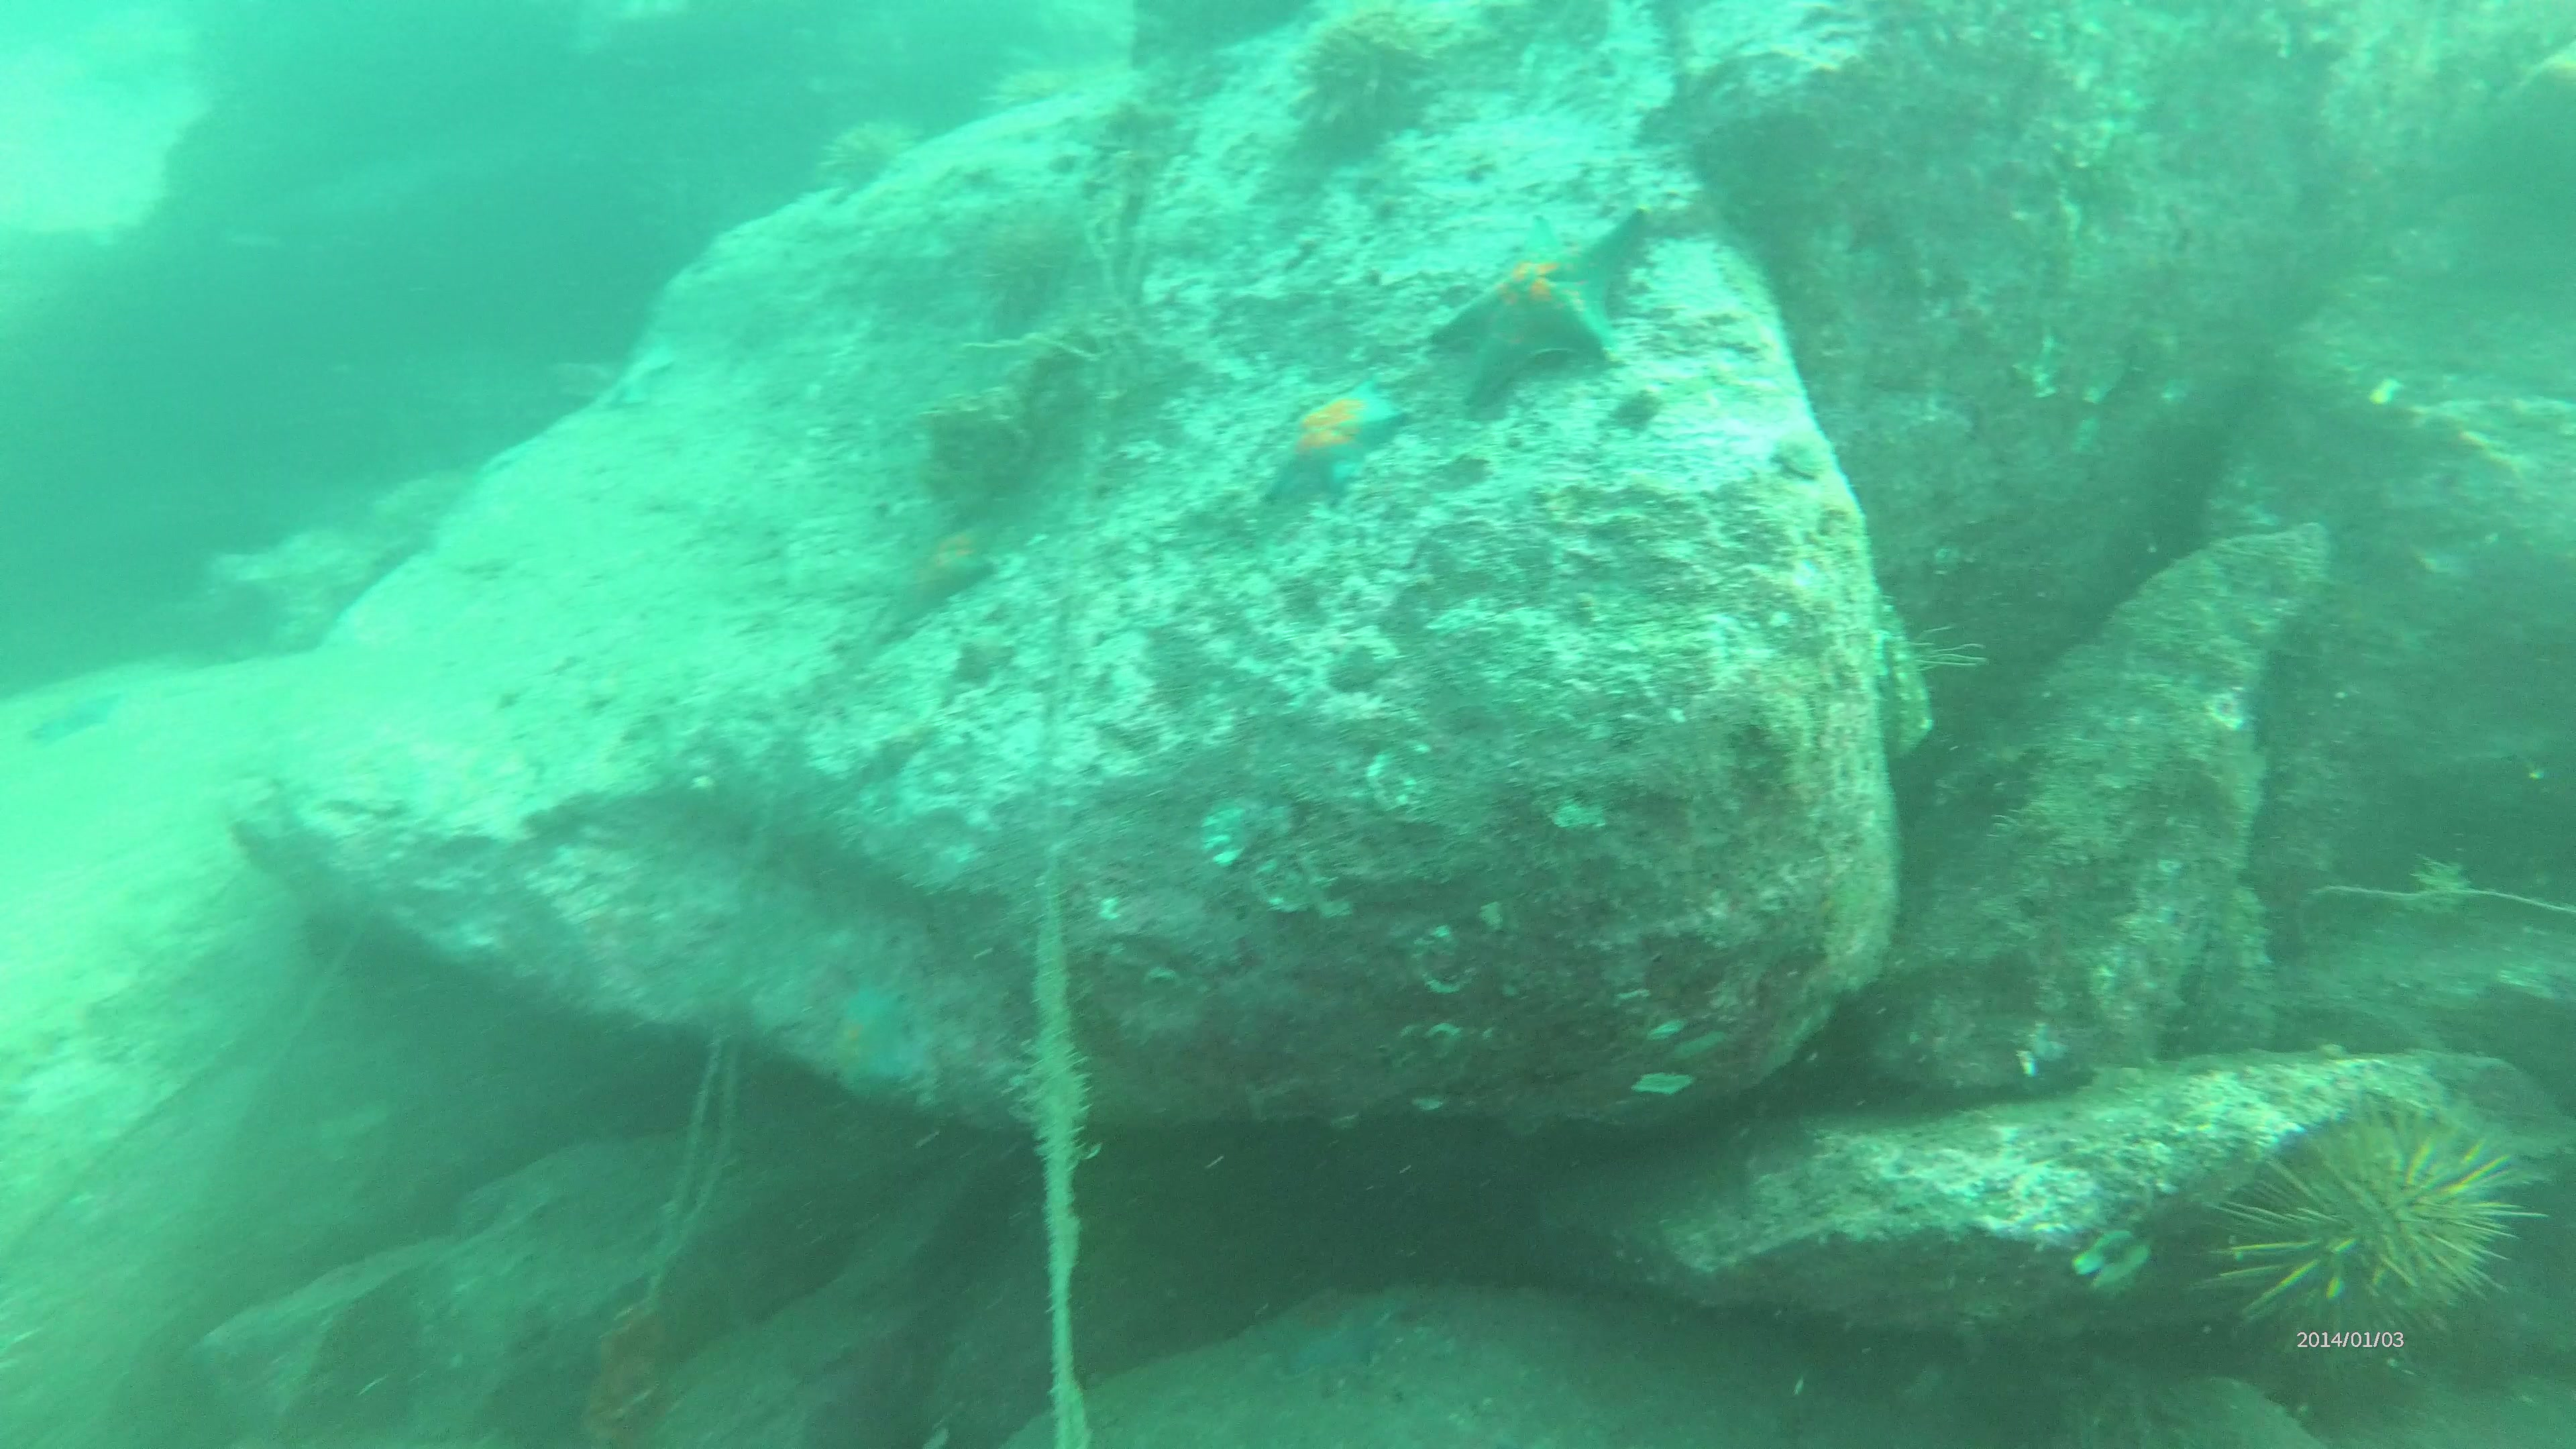echinus: (2204, 1108, 2532, 1371), (1284, 7, 1460, 159), (955, 209, 1079, 324), (812, 119, 918, 191), (975, 58, 1077, 119)
starfish: (1430, 209, 1651, 425), (860, 488, 1008, 637), (1254, 372, 1412, 508), (25, 672, 124, 752)
